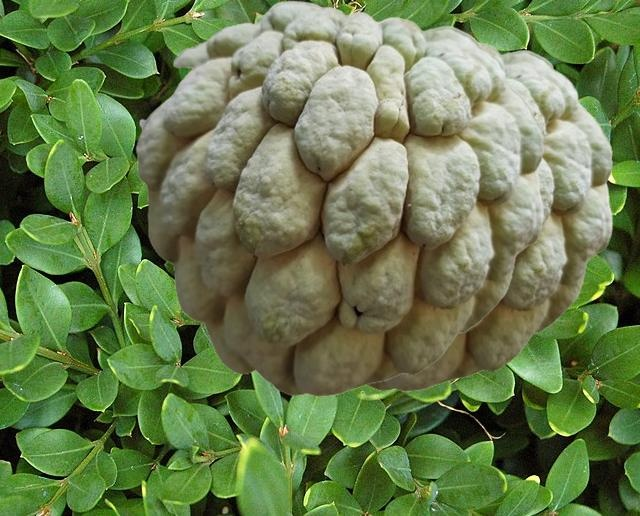atis: (135, 0, 543, 395), (366, 39, 612, 390)
